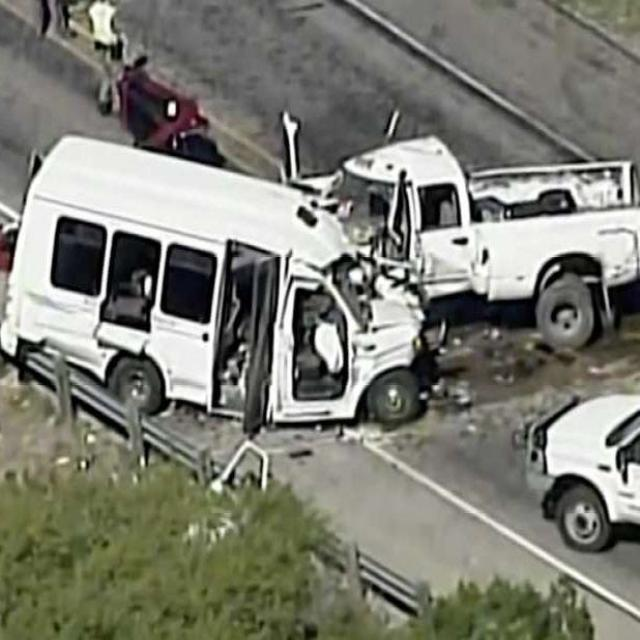traffic_incident: (0, 128, 639, 427)
